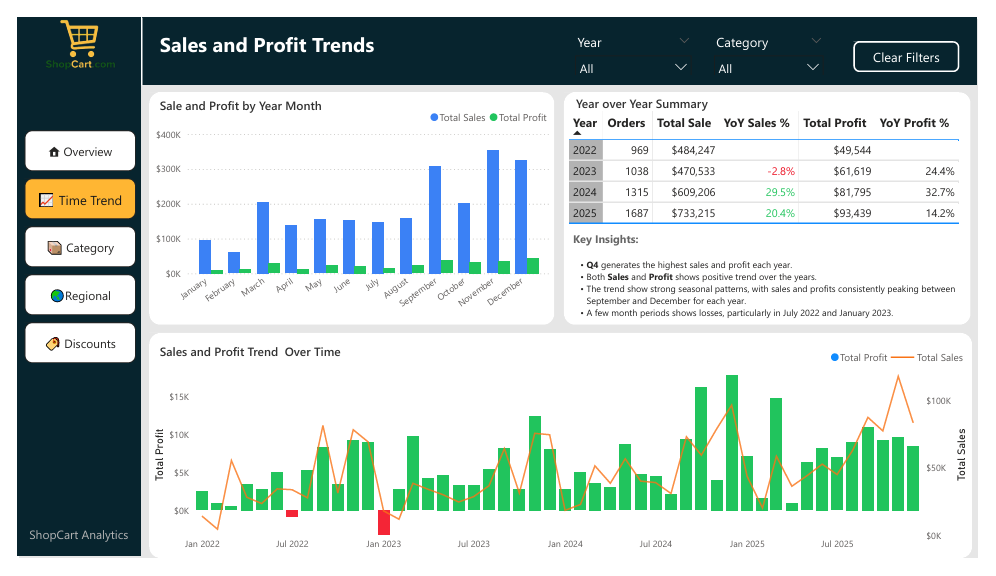

This screenshot's page, from the dashboard's own definition file:
{"tool":"powerbi","page":{"name":"📈 Time Trend","canvas":[1280,720],"ordinal":1},"visuals":[{"type":"shape","box":[1.5,1.5,1278.5,718.5],"z":0},{"type":"shape","box":[0,0,165.2,718.2],"z":1000},{"type":"shape","box":[165.7,0,1113.4,90],"z":2000},{"type":"image","box":[1.5,0,164.2,73.1],"z":3000},{"type":"textbox","box":[183.7,11.8,496.7,57.3],"z":4000},{"type":"shape","box":[174.9,420.2,1097.6,299.8],"z":5000},{"type":"shape","box":[174.6,98.5,540.3,310.4],"z":6000},{"type":"shape","box":[728.4,98.5,541.8,310.4],"z":7000},{"type":"clusteredColumnChart","fields":{"Category":["shopcart.Order Date.Variation.Date Hierarchy.Month"],"Y":["Sum(shopcart.Sales)","Sum(shopcart.Profit)"]},"box":[179.1,111.9,535.8,297],"z":8000},{"type":"textbox","box":[183.6,101.5,244.8,35.8],"z":9000},{"type":"tableEx","fields":{"Values":["shopcart.Year","shopcart.Order ID","shopcart.Total Sale","shopcart.YoY Sales %","shopcart.Total Profit","shopcart.YoY Profit %"]},"box":[728.8,120.5,542.2,160.2],"z":10000},{"type":"textbox","box":[739.1,98.4,192.5,35.3],"z":11000},{"type":"lineClusteredColumnComboChart","fields":{"Category":["shopcart.MonthStart"],"Y":["Sum(shopcart.Profit)"],"Y2":["Sum(shopcart.Sales)"]},"box":[174.9,432,1094.7,288],"z":12000},{"type":"textbox","box":[183.7,429.1,264.5,33.8],"z":13000},{"type":"textbox","box":[734.7,279.2,534.9,129.3],"z":14000},{"type":"pageNavigator","box":[8.8,149.9,148.4,314.4],"z":15000},{"type":"slicer","fields":{"Values":["shopcart.Order Date.Variation.Date Hierarchy.Year"]},"box":[733.2,14.7,174.9,60.2],"z":16000},{"type":"slicer","fields":{"Values":["shopcart.Category"]},"box":[918.4,14.7,166,60.2],"z":17000},{"type":"shape","box":[135.2,0,60.2,89.6],"z":18000},{"type":"textbox","box":[10.3,673,145.5,45.6],"z":19000},{"type":"actionButton","box":[1113.8,30.9,141.1,41.1],"z":20000}]}

Visuals, with their boxes in screenshot pixels (x1, y1, x2, y2), scaled from the page's 1280x720 canvas onto the 996x576 screenshot:
shape: [left=1, top=1, right=995, bottom=575]
shape: [left=0, top=0, right=129, bottom=575]
shape: [left=129, top=0, right=995, bottom=72]
image: [left=1, top=0, right=129, bottom=58]
textbox: [left=143, top=9, right=529, bottom=55]
shape: [left=136, top=336, right=990, bottom=575]
shape: [left=136, top=79, right=556, bottom=327]
shape: [left=567, top=79, right=988, bottom=327]
clusteredColumnChart - shopcart.Order Date.Variation.Date Hierarchy.Month x Sum(shopcart.Sales): [left=139, top=90, right=556, bottom=327]
textbox: [left=143, top=81, right=333, bottom=110]
tableEx - shopcart.Year x shopcart.Order ID: [left=567, top=96, right=989, bottom=225]
textbox: [left=575, top=79, right=725, bottom=107]
lineClusteredColumnComboChart - shopcart.MonthStart x Sum(shopcart.Profit): [left=136, top=346, right=988, bottom=575]
textbox: [left=143, top=343, right=349, bottom=370]
textbox: [left=572, top=223, right=988, bottom=327]
pageNavigator: [left=7, top=120, right=122, bottom=371]
slicer - shopcart.Order Date.Variation.Date Hierarchy.Year: [left=571, top=12, right=707, bottom=60]
slicer - shopcart.Category: [left=715, top=12, right=844, bottom=60]
shape: [left=105, top=0, right=152, bottom=72]
textbox: [left=8, top=538, right=121, bottom=575]
actionButton: [left=867, top=25, right=976, bottom=58]
